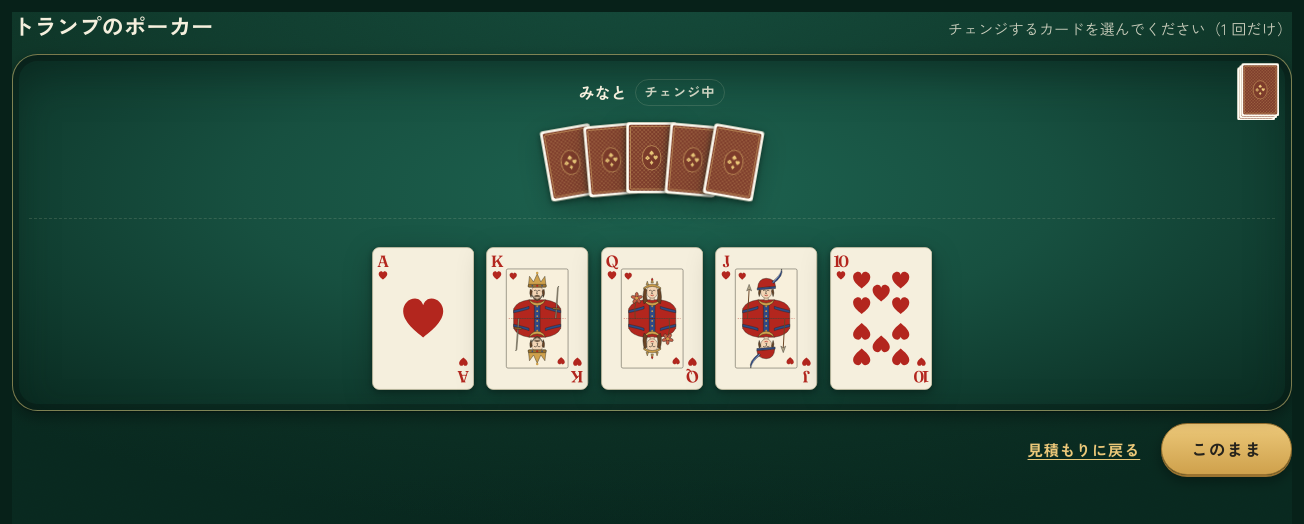
チェンジ（#403 G-4） › Given 選んだ札 / When もう一度押す / Then 選びが外れる
Click the button "K K" at {"x": 538, "y": 318}, box [486,247,589,390]
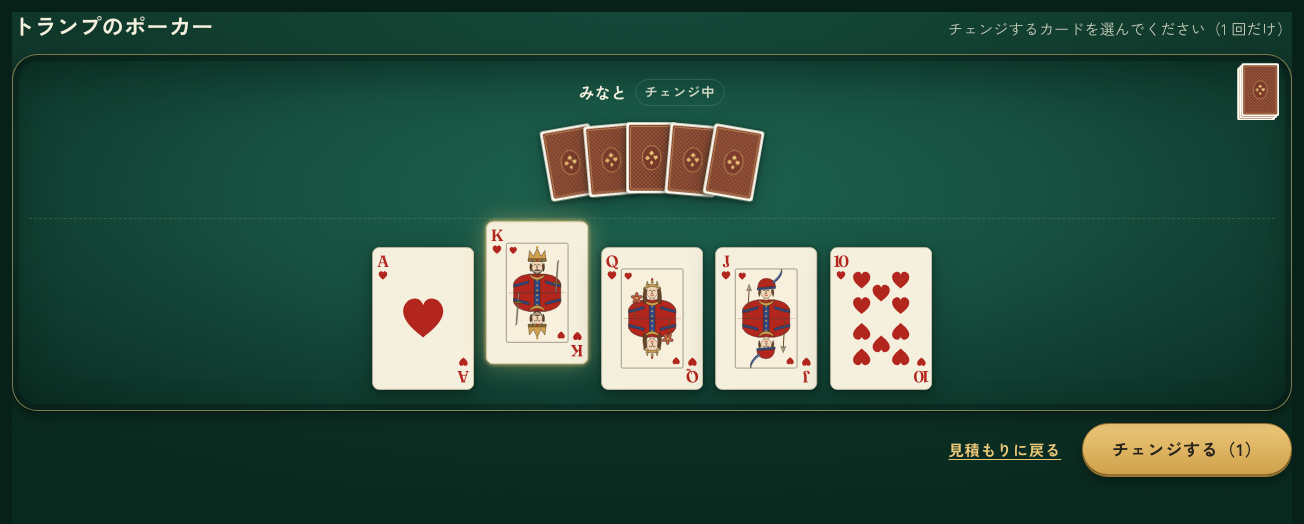
Click the button "K K" at {"x": 538, "y": 293}, box [486,221,589,364]
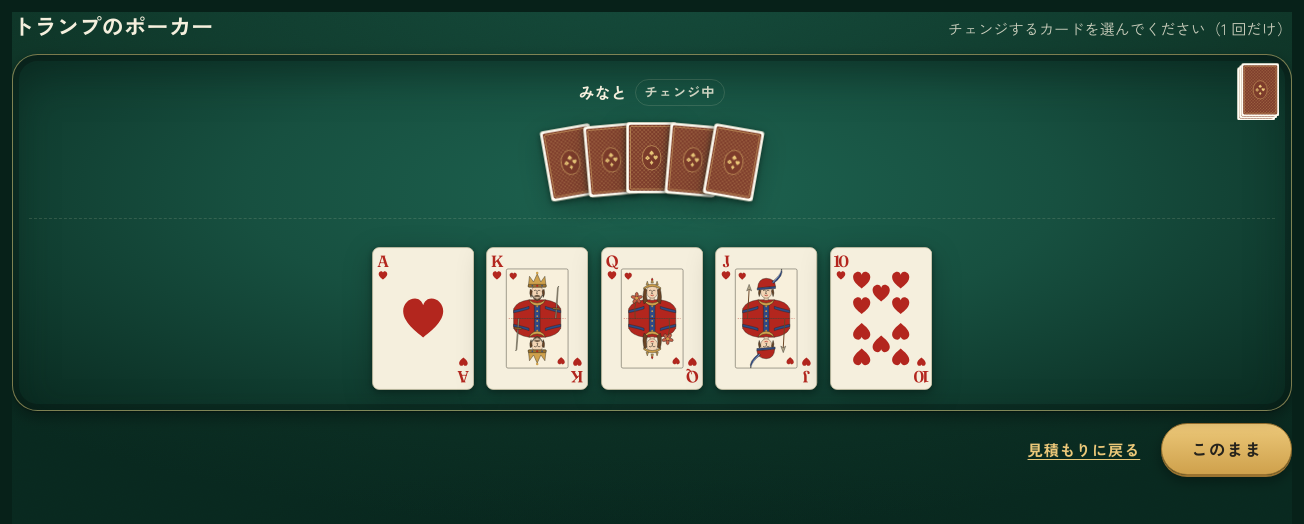
Now the button "このまま" is shown, box [1161,423,1292,475]
